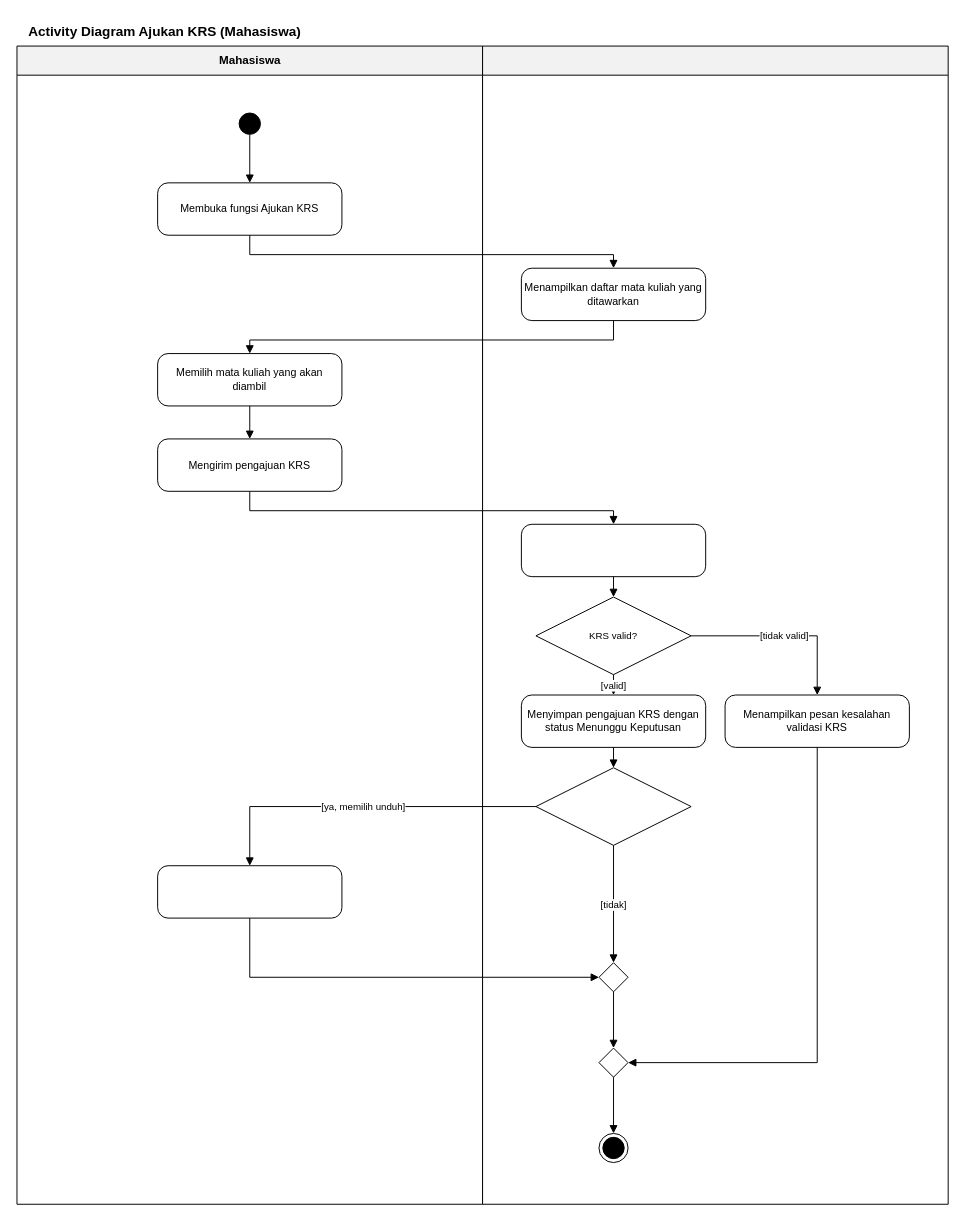
The diagram is 965 pixels wide and 1221 high, and some of its shapes have lost their labels. The box of each missing label's shape, as (x1, y1, x2, y2) in pixels:
Mahasiswa memilih unduh bukti?: (535, 767, 691, 845)
Sistem: (482, 45, 948, 1204)
Unduh Bukti Pengajuan KRS (extend): (157, 865, 342, 918)
Validasi KRS (include): (520, 523, 706, 577)
